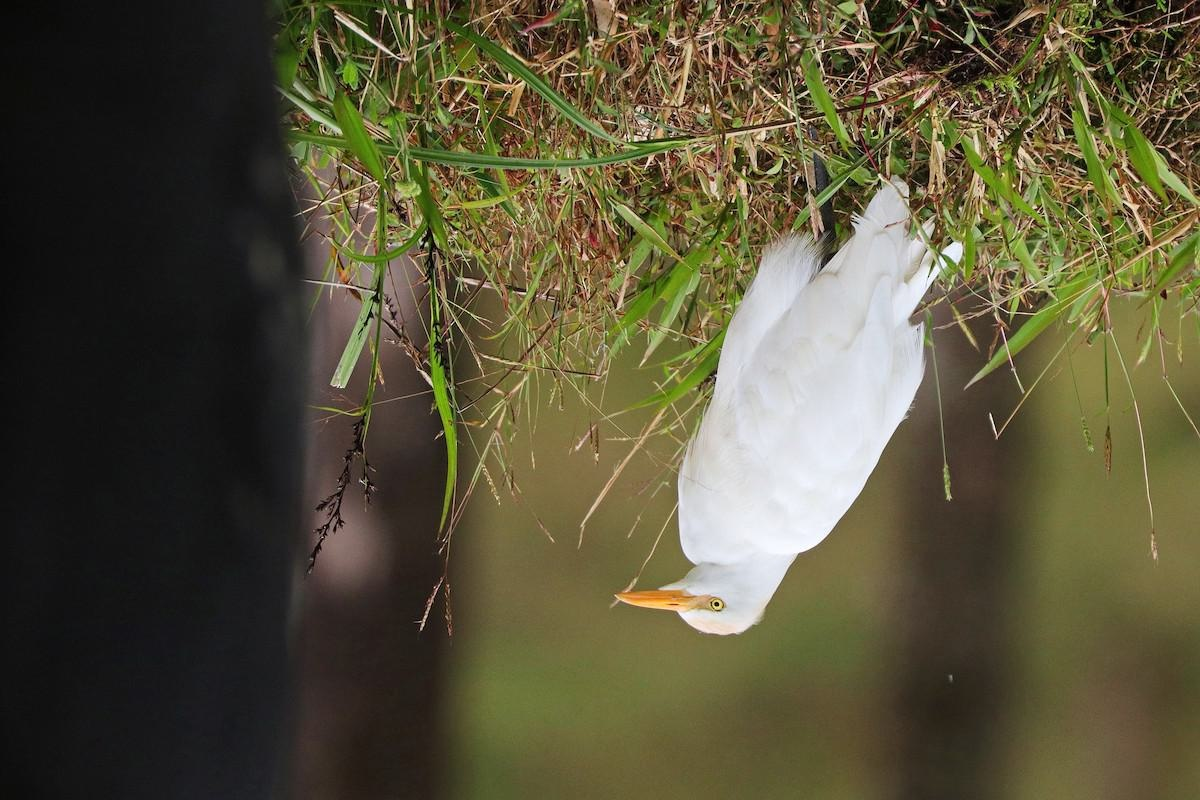egret: (588, 116, 980, 655)
